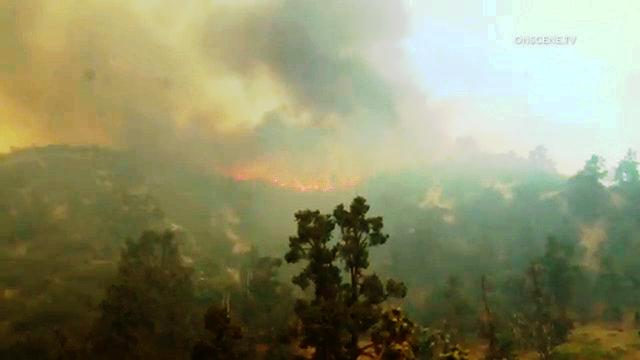fire: (239, 166, 362, 192)
smoke: (8, 2, 474, 120)
